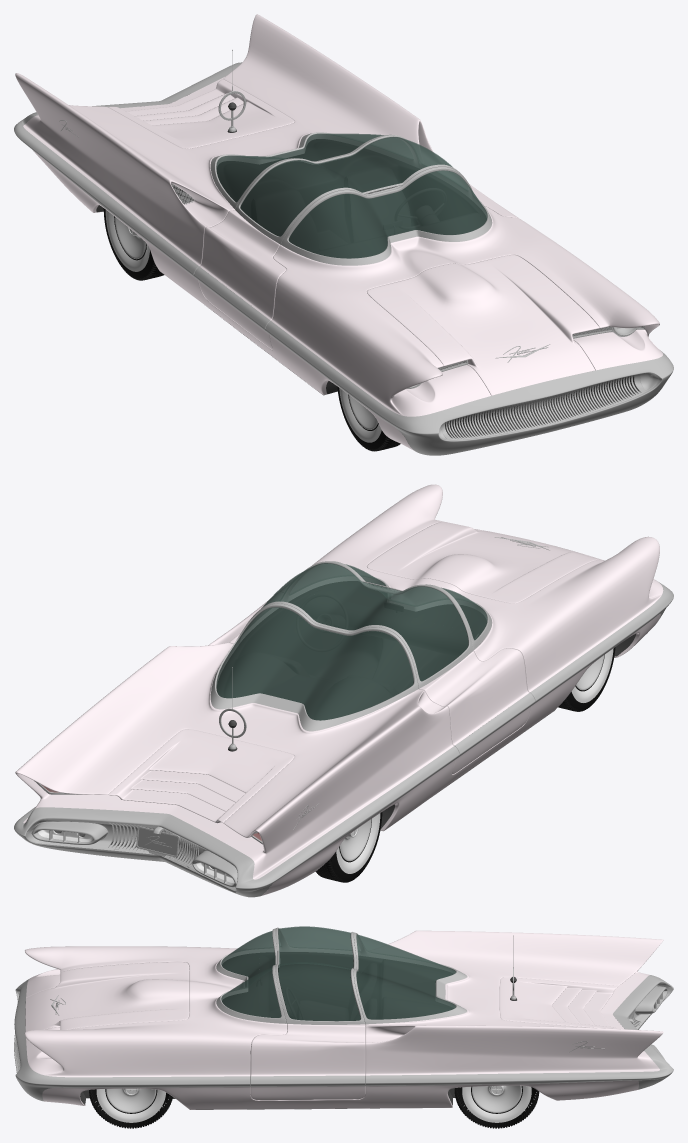
Rendered from lincoln_futura_1955.glb.
3 views of the same model, one above another, from view 1: azimuth 30°, elevation 25°; view 2: azimuth 150°, elevation 25°; view 3: azimuth 270°, elevation 25° (orthographic). The views are drawn at different scales.
Parts seen in each view (by area): view 1: Object_6, Object_50, Object_128, Object_74, Object_126, Object_44, Object_72, Object_40, Object_42, Object_122, Object_24, Object_70 (+1 smaller); view 2: Object_6, Object_74, Object_128, Object_50, Object_126, Object_44, Object_36, Object_54, Object_122, Object_70, Object_46, Object_124 (+3 smaller); view 3: Object_6, Object_50, Object_74, Object_128, Object_126, Object_44, Object_72, Object_122, Object_88, Object_86, Object_118, Object_114 (+4 smaller).
Part boxes in pixels (<box>): Object_6: <box>15,14,662,450</box>; Object_50: <box>14,62,673,455</box>; Object_128: <box>216,133,487,258</box>; Object_74: <box>217,139,486,258</box>; Object_126: <box>240,137,467,236</box>; Object_44: <box>210,132,492,265</box>; Object_72: <box>251,166,410,251</box>; Object_40: <box>440,373,661,439</box>; Object_42: <box>445,375,641,438</box>; Object_122: <box>105,210,381,442</box>; Object_24: <box>445,375,638,435</box>; Object_70: <box>394,188,446,229</box>; Object_6: <box>15,484,663,895</box>; Object_74: <box>217,581,486,720</box>; Object_128: <box>216,564,487,720</box>; Object_50: <box>14,582,673,897</box>; Object_126: <box>244,563,468,681</box>; Object_44: <box>210,561,492,731</box>; Object_36: <box>26,819,236,891</box>; Object_54: <box>31,822,237,887</box>; Object_122: <box>336,648,613,873</box>; Object_70: <box>296,594,370,651</box>; Object_46: <box>33,785,261,868</box>; Object_124: <box>137,828,177,855</box>; Object_6: <box>25,930,663,1109</box>; Object_50: <box>14,975,673,1101</box>; Object_74: <box>222,952,453,1053</box>; Object_128: <box>221,931,455,1019</box>; Object_126: <box>278,926,360,1021</box>; Object_44: <box>216,927,467,1024</box>; Object_72: <box>256,963,376,1020</box>; Object_122: <box>96,1086,531,1122</box>; Object_88: <box>472,1085,521,1112</box>; Object_86: <box>106,1088,156,1112</box>; Object_118: <box>455,1086,538,1128</box>; Object_114: <box>89,1089,172,1128</box>.
Size of what is drawn, in the model's own units: 219 by 146 by 579.
